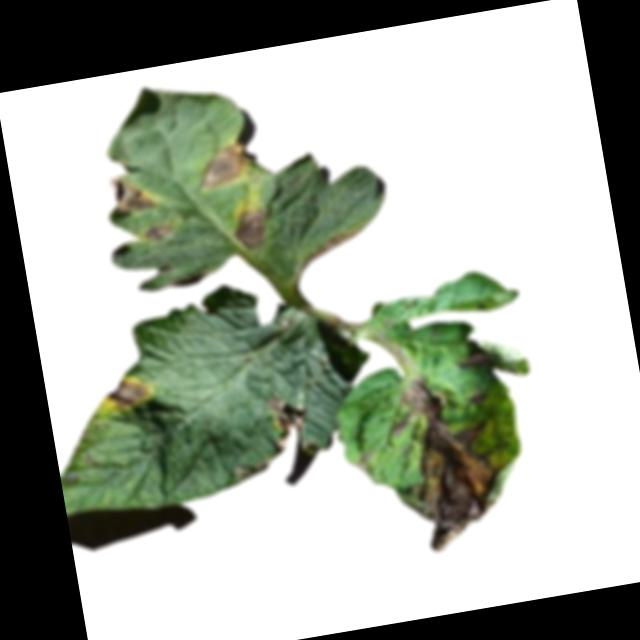Early_blight: (391, 366, 520, 559), (193, 138, 257, 193), (99, 169, 160, 223), (297, 226, 363, 269), (266, 391, 310, 454), (98, 372, 154, 414), (231, 204, 272, 250), (455, 347, 496, 372), (141, 220, 177, 245), (347, 448, 374, 473)
